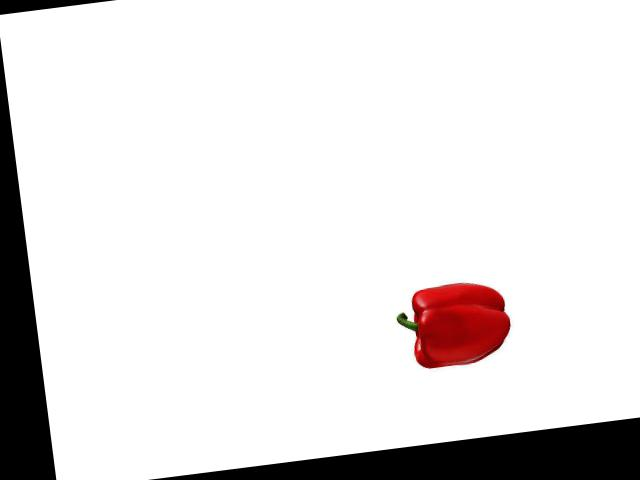bell_pepper: (392, 272, 518, 377)
